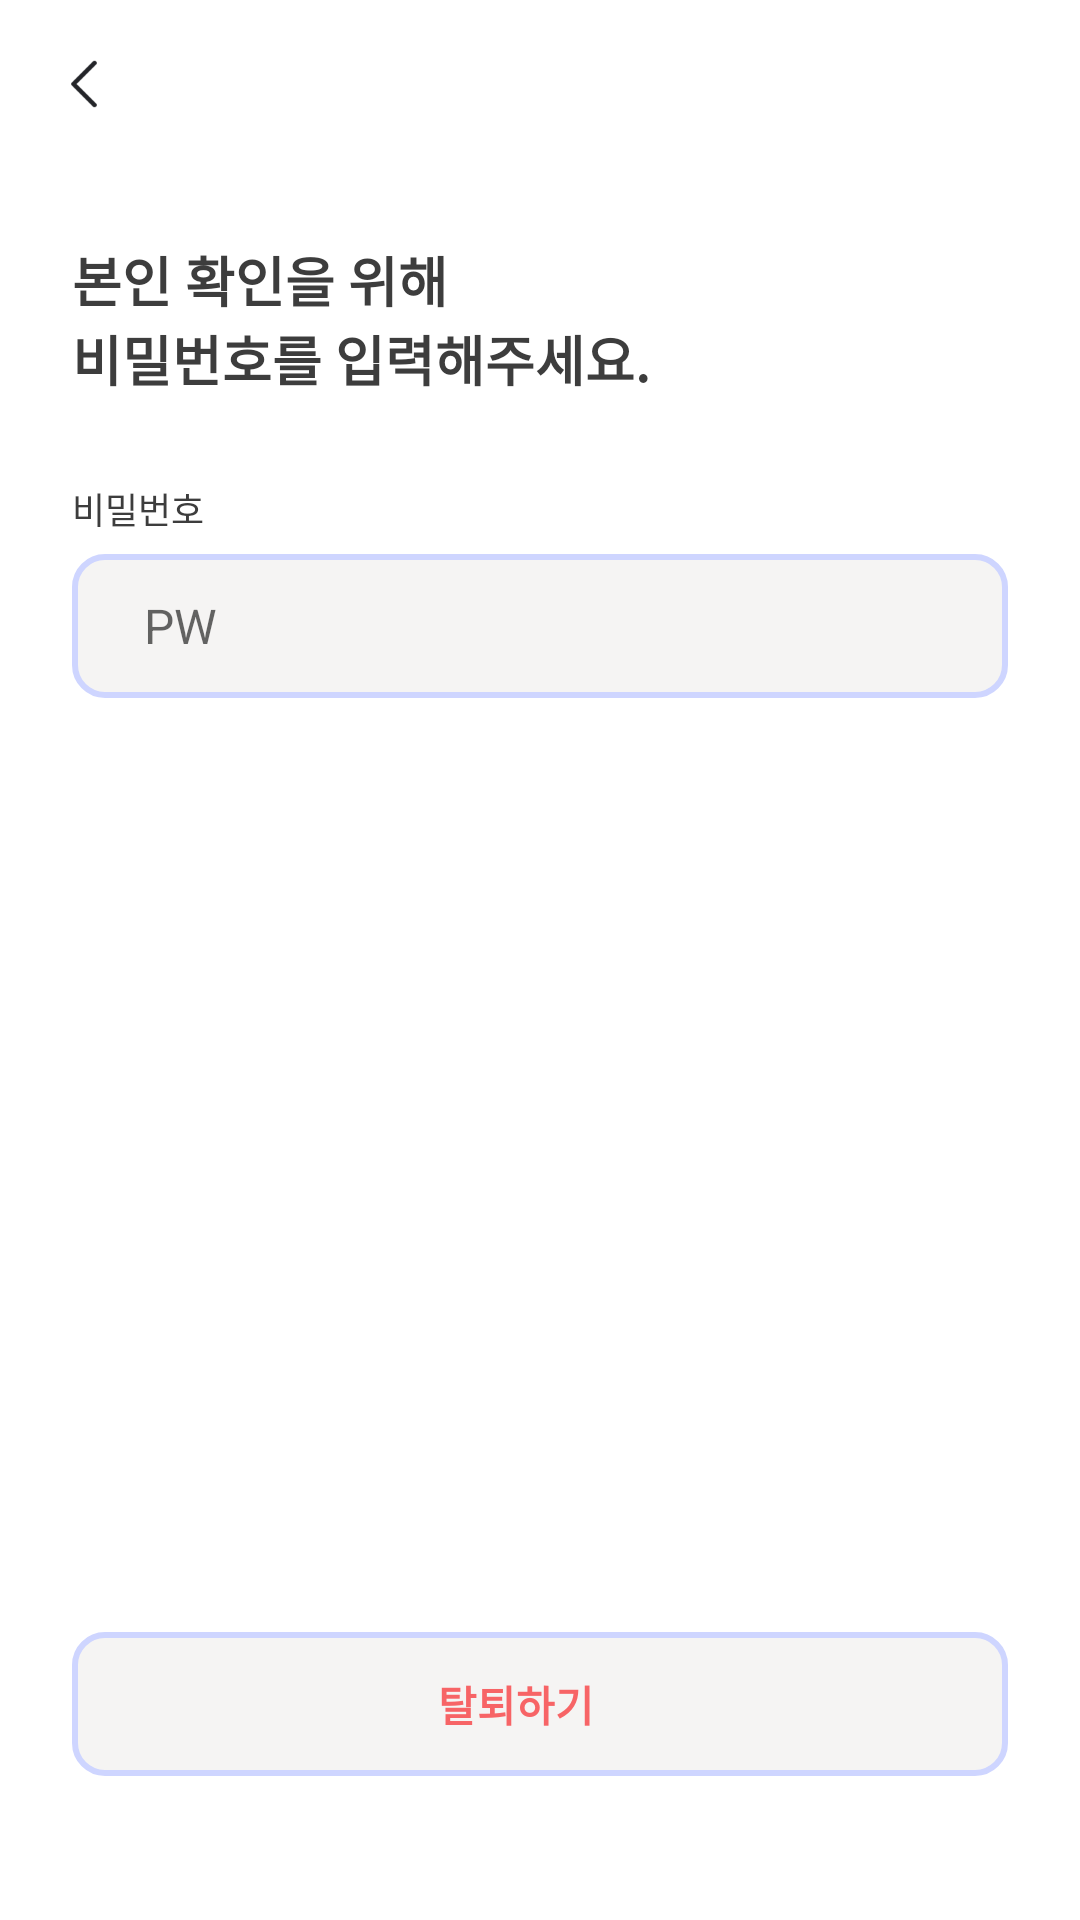

Screen size 1080 × 1920. Icon name, then its box in pixels as [x1=x1, y1=y1, x2=x2, y2=y2]:
arrow: [x1=71, y1=60, x2=97, y2=108]
